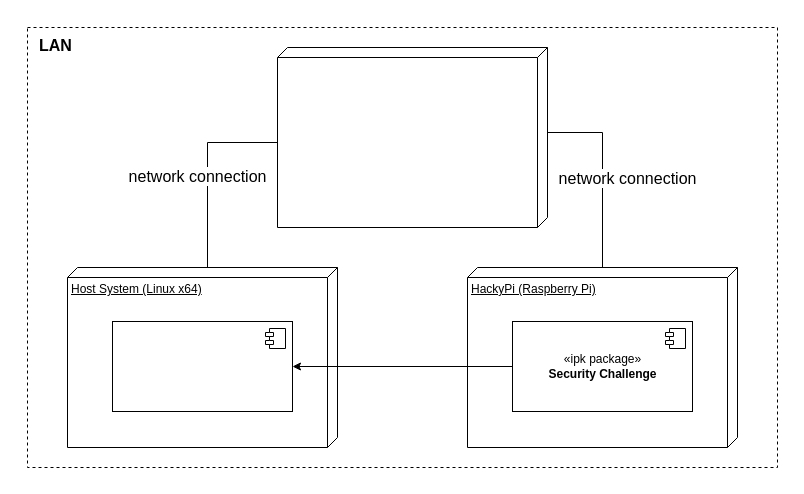
Image size: 804x494. Some labels were removed from this diagram. The centre of each missing label's shape, as x and y in pixels:
"DHCP Server (Router)" goes at point 412,137.
"«OPKG Server» Hacky Packages Server" goes at point 202,366.
